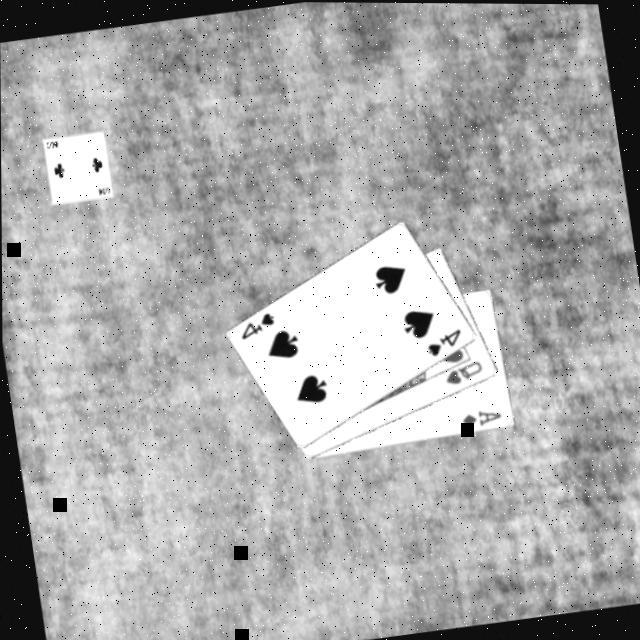4S: (420, 322, 466, 358), (233, 306, 279, 341)
AD: (456, 402, 504, 430)
QH: (440, 354, 486, 386)
